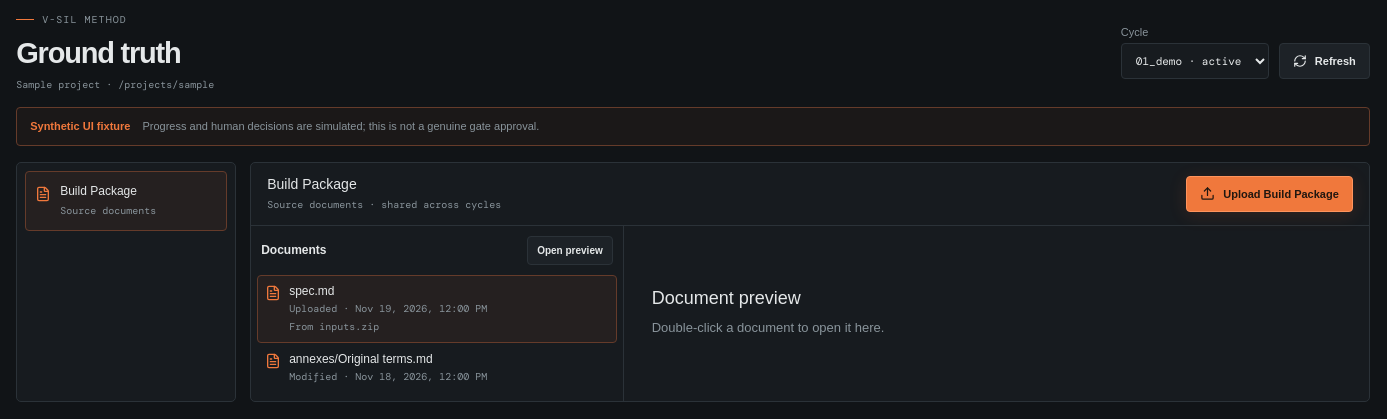
Test case: Workspace › uploads multiple Build Package files and reuses the Markdown viewer on double-click
Earlier steps of the test are not shown.
Expected: the button "Upload Build Package" is enabled, [1186,176,1353,212]
Double-click the button "spec.md Uploaded · Nov 19, 2026, 12:00 PM From inputs.zip": point(437, 308) [257,274,617,342]
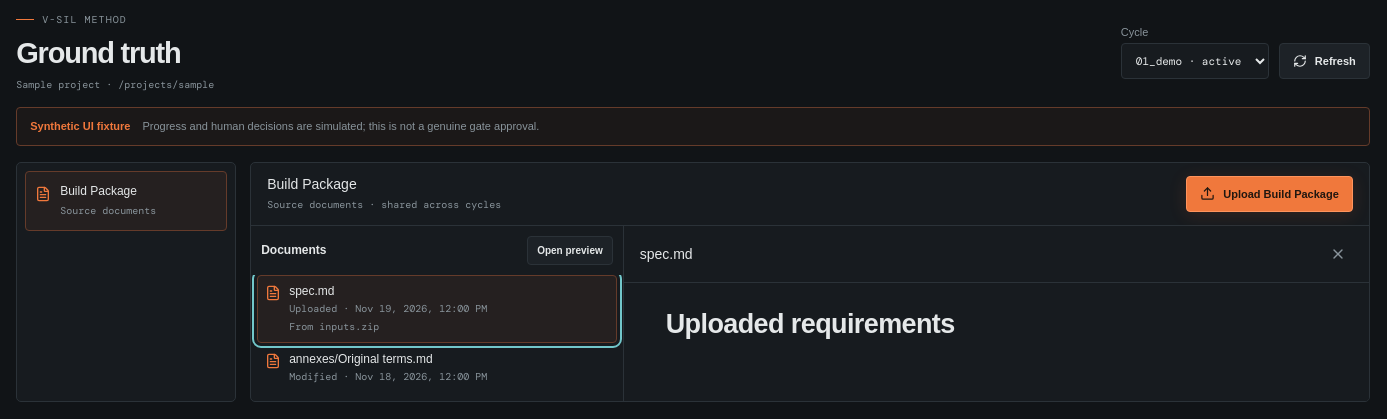
Now the heading "Uploaded requirements" is shown, box [666,308,955,338]
Double-click the button "annexes/Original terms.md Modified · Nov 18, 2026, 12:00 PM": point(437, 368) [257,342,617,392]
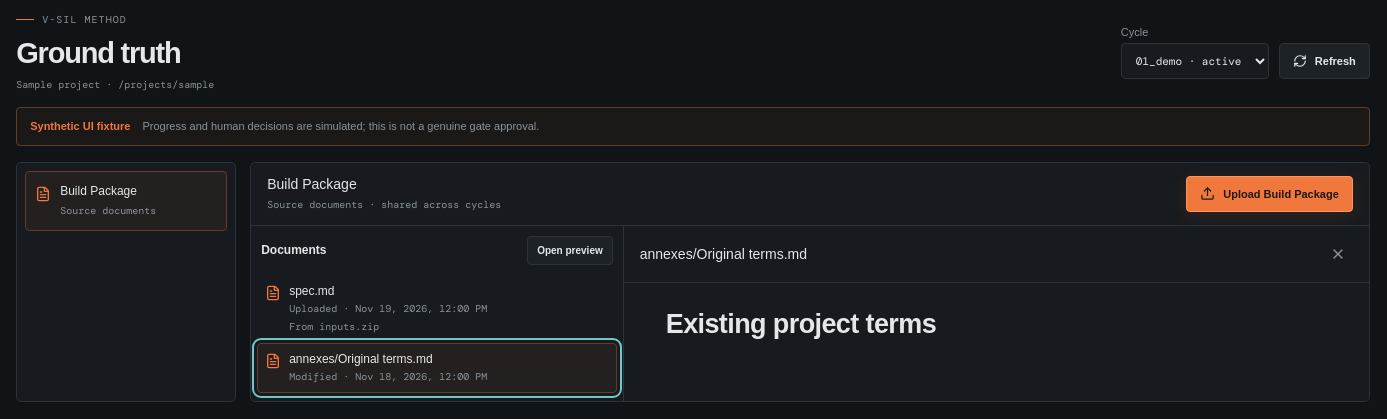
Now the heading "Existing project terms" is shown, box [666,308,936,338]
